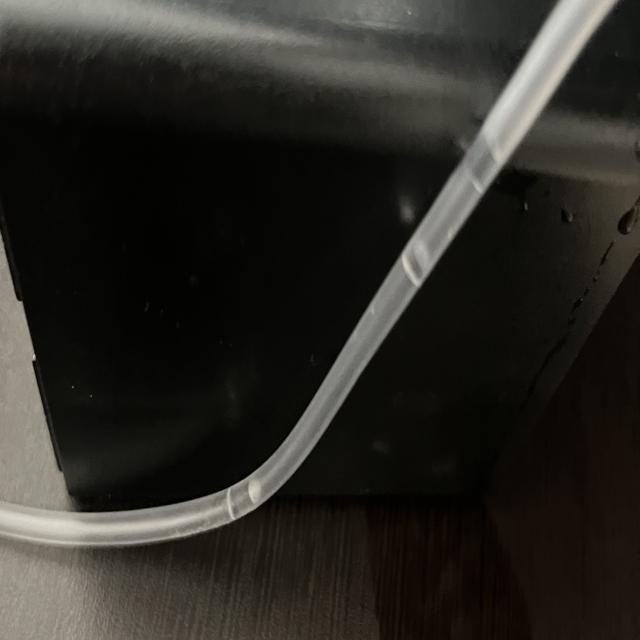bubble: (374, 123, 495, 303), (206, 469, 281, 529)
